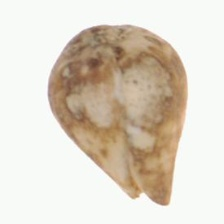L1: (78, 22, 135, 48), (124, 179, 173, 207)
L2: (47, 23, 188, 206)
